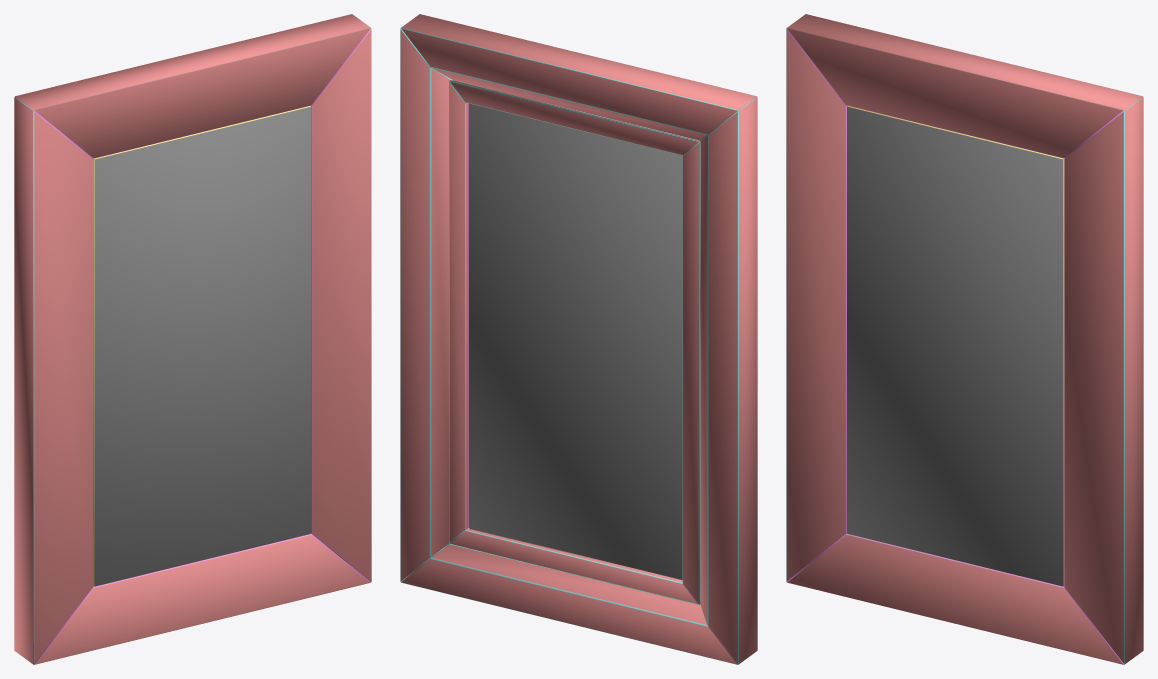
Rendered from mirror.fbx.
3 renders of one model, left to right at view 1: azimuth 30°, elevation 25°; view 2: azimuth 150°, elevation 25°; view 3: azimuth 330°, elevation 25°, orthographic.
Visible parts, largest first — view 1: mirror; view 2: mirror; view 3: mirror.
Boxes of the visible parts, left/top/right/bottom form: mirror: left=14, top=14, right=371, bottom=664; mirror: left=400, top=14, right=757, bottom=664; mirror: left=786, top=14, right=1143, bottom=664.
Size of the model in its own units: 114 by 179 by 11.43.
